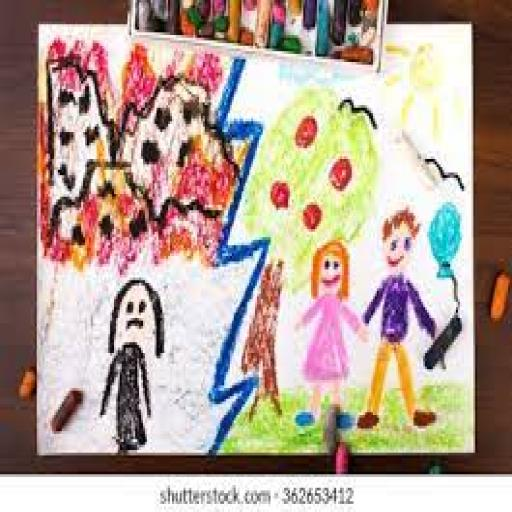objects: (361, 210, 437, 436), (296, 224, 362, 440)
person: (358, 208, 436, 428), (89, 278, 182, 455), (296, 240, 367, 425)
